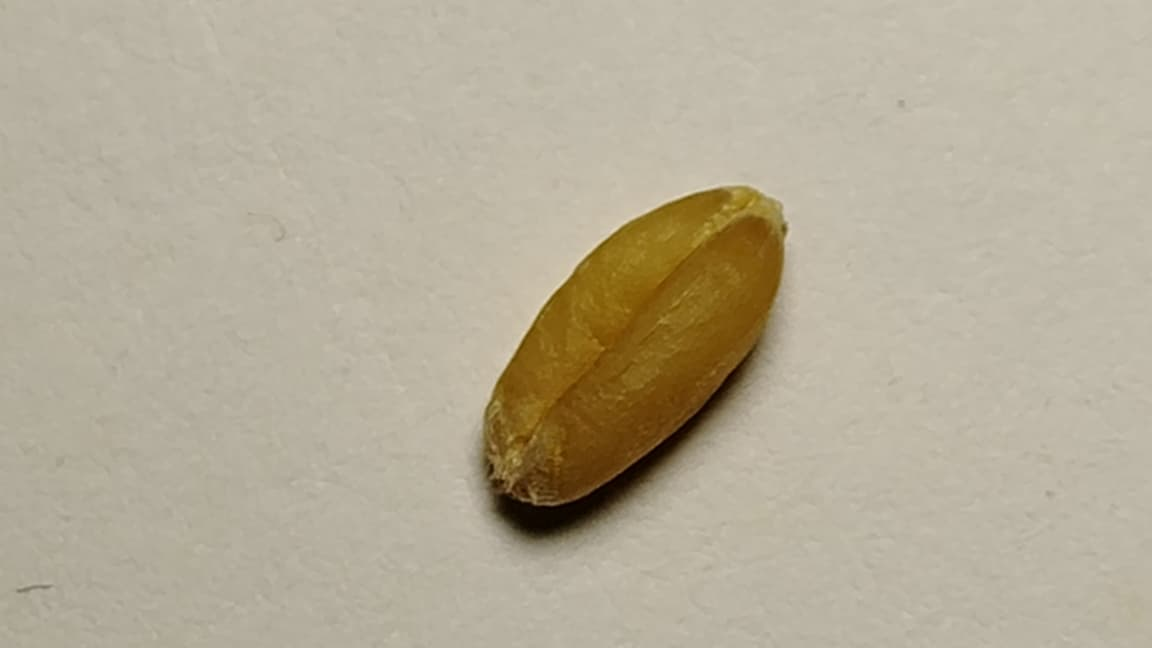healthy: (486, 186, 786, 504)
